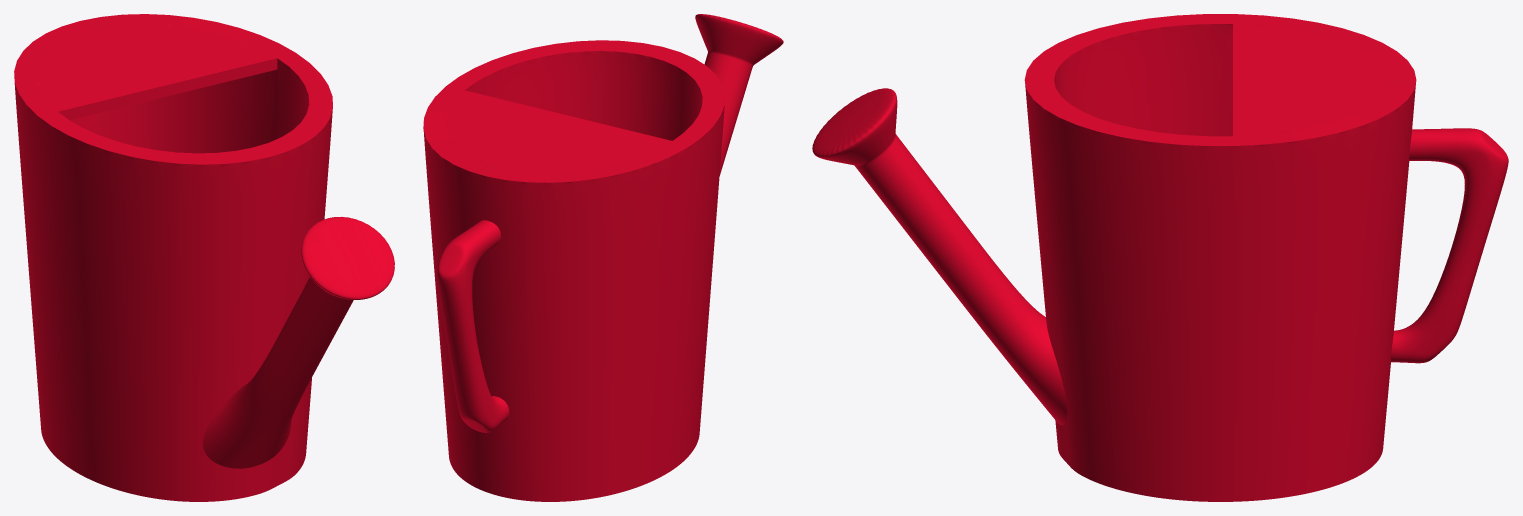
File: WateringCan.fbx
3 views of the same model, side by side, from view 1: azimuth 30°, elevation 25°; view 2: azimuth 150°, elevation 25°; view 3: azimuth 270°, elevation 25° (orthographic). The views are drawn at different scales.
Visible parts, largest first — view 1: WateringCan; view 2: WateringCan; view 3: WateringCan.
Boxes of the visible parts, x1,y1,x2,y2 form: WateringCan: (14, 14, 394, 501); WateringCan: (423, 14, 783, 501); WateringCan: (812, 14, 1508, 501).
Size of the model in its own units: 0.9573 by 2.13 by 1.24.
